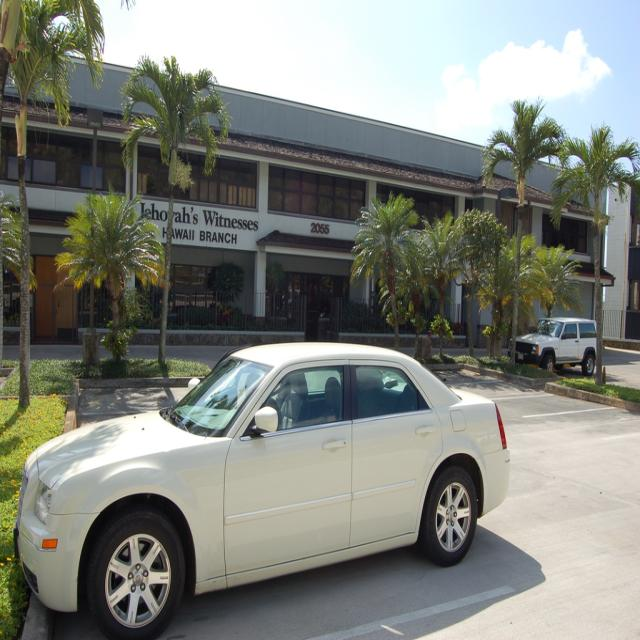Car: (13, 342, 510, 640), (508, 317, 596, 376)
